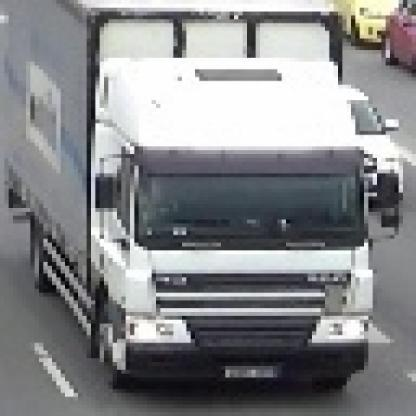truck: (1, 1, 399, 397)
